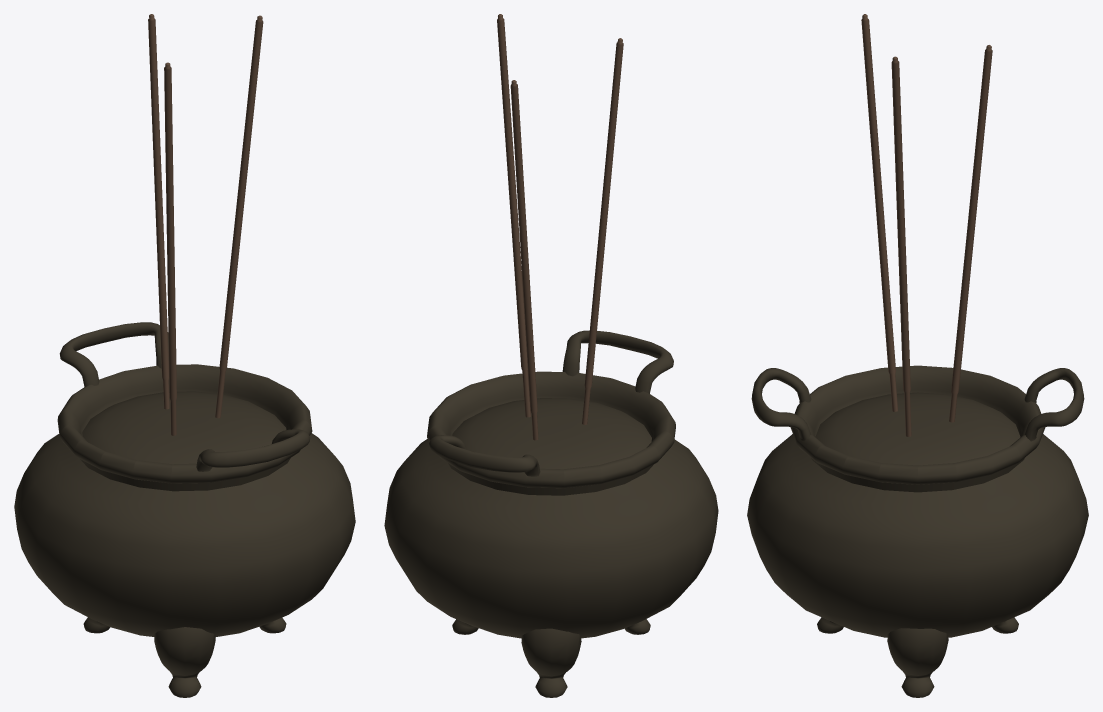
Rendered from incense_burner_anim.fbx.
3 renders of one model, left to right at view 1: azimuth 30°, elevation 25°; view 2: azimuth 150°, elevation 25°; view 3: azimuth 270°, elevation 25°, orthographic. The views are drawn at different scales.
Parts seen in each view (by area): view 1: incense_burner, incense; view 2: incense_burner, incense; view 3: incense_burner, incense.
Part boxes in pixels (<box>): incense_burner: <box>14,322,355,697</box>; incense: <box>148,14,263,435</box>; incense_burner: <box>384,330,718,697</box>; incense: <box>497,14,623,440</box>; incense_burner: <box>747,365,1088,697</box>; incense: <box>861,14,992,436</box>.
Size of the model in its own units: 0.4974 by 1 by 0.4974.
